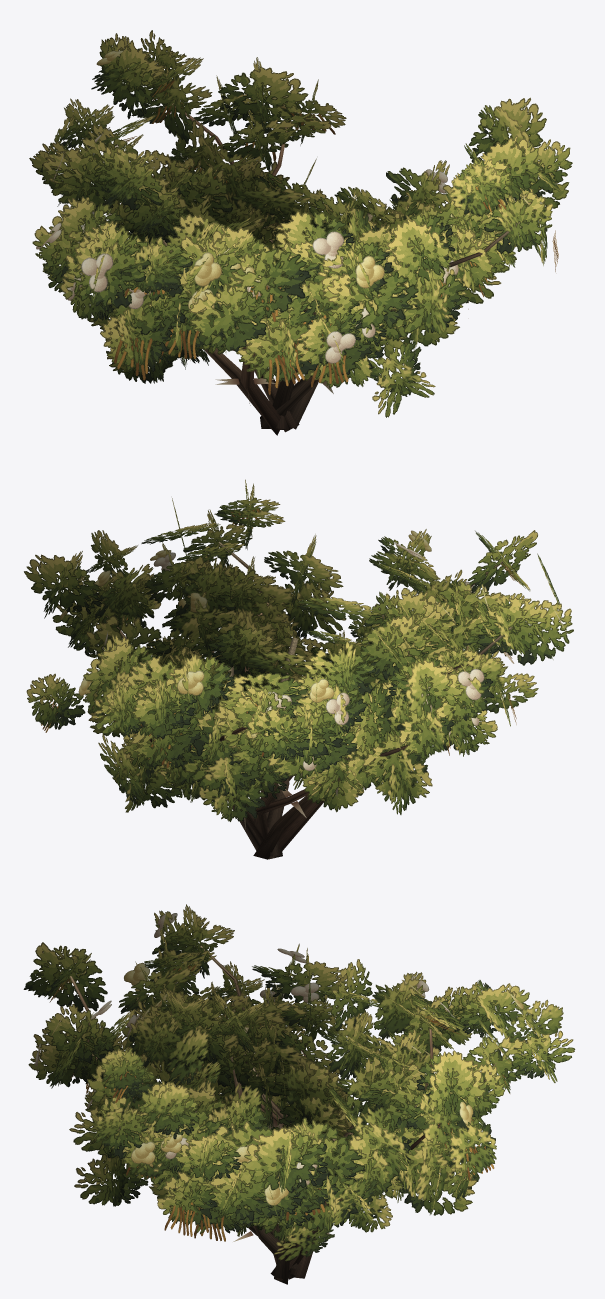
Rendered from a03_thorny_shrub_high.glb.
3 views of the same model, one above another, from view 1: azimuth 30°, elevation 25°; view 2: azimuth 150°, elevation 25°; view 3: azimuth 270°, elevation 25° (orthographic). The views are drawn at different scales.
Visible parts, largest first — view 1: A03_high_Shrub, A03_high_Flowers, A03_high_Pods; view 2: A03_high_Shrub, A03_high_Flowers; view 3: A03_high_Shrub, A03_high_Flowers, A03_high_Pods.
Part boxes in pixels (bbox=[...]): A03_high_Shrub: bbox=[29, 30, 572, 435]; A03_high_Flowers: bbox=[36, 50, 530, 363]; A03_high_Pods: bbox=[101, 80, 558, 395]; A03_high_Shrub: bbox=[24, 479, 573, 859]; A03_high_Flowers: bbox=[60, 530, 566, 770]; A03_high_Shrub: bbox=[23, 904, 575, 1284]; A03_high_Flowers: bbox=[35, 913, 523, 1205]; A03_high_Pods: bbox=[49, 965, 510, 1241].
Bounding box in the file's own units: 2.36 × 1.35 × 2.34.
1 material, 1 textured.
